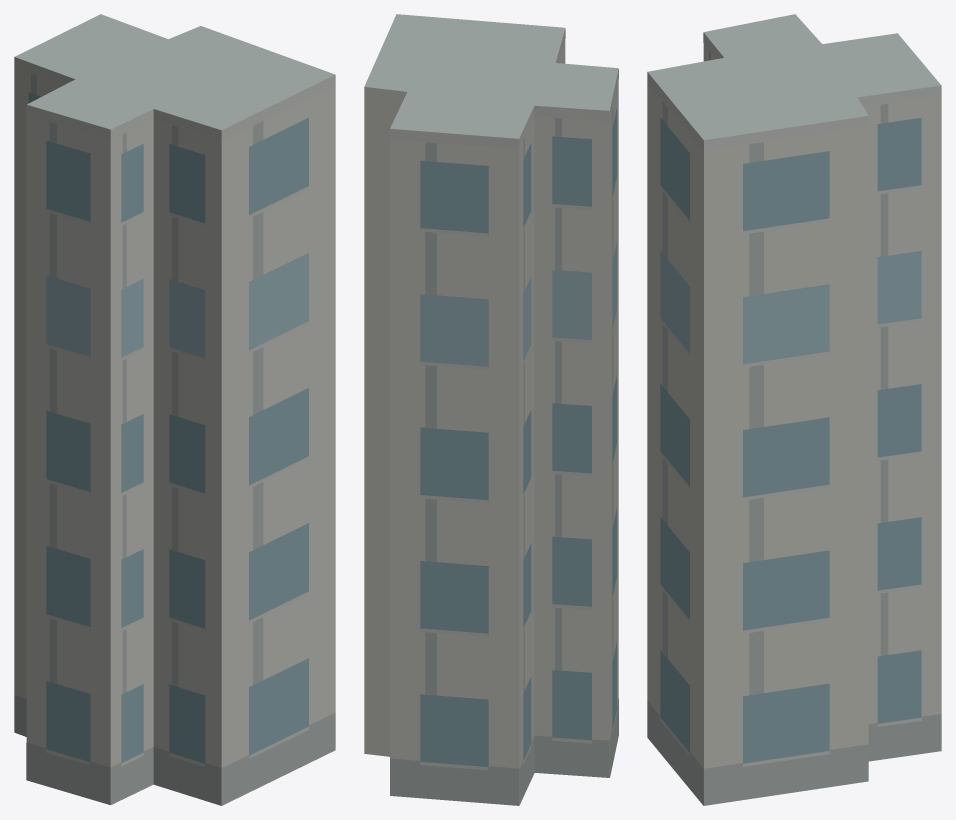
Rendered from survey-upis-32647309.glb.
3 views of the same model, side by side, from view 1: azimuth 30°, elevation 25°; view 2: azimuth 150°, elevation 25°; view 3: azimuth 270°, elevation 25° (orthographic).
Parts seen in each view (by area): view 1: survey-upis-32647309.tmp; view 2: survey-upis-32647309.tmp; view 3: survey-upis-32647309.tmp.
Part boxes in pixels (<box>): survey-upis-32647309.tmp: <box>14,14,335,805</box>; survey-upis-32647309.tmp: <box>364,14,618,805</box>; survey-upis-32647309.tmp: <box>647,14,941,805</box>.
Bounding box in the file's own units: 6.21 × 15.25 × 6.12.
